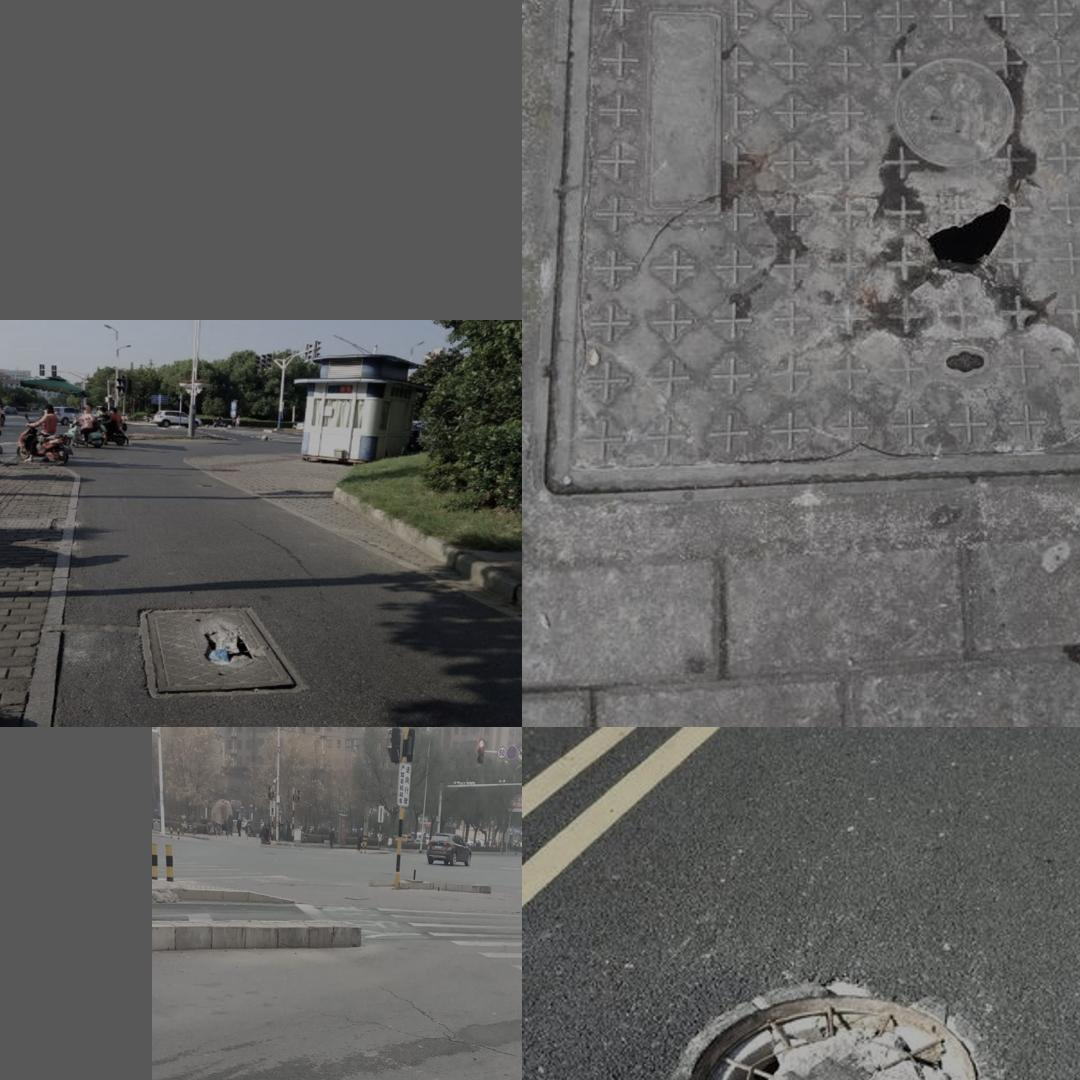broke: (536, 0, 1080, 551), (657, 961, 999, 1080), (140, 605, 307, 698)
